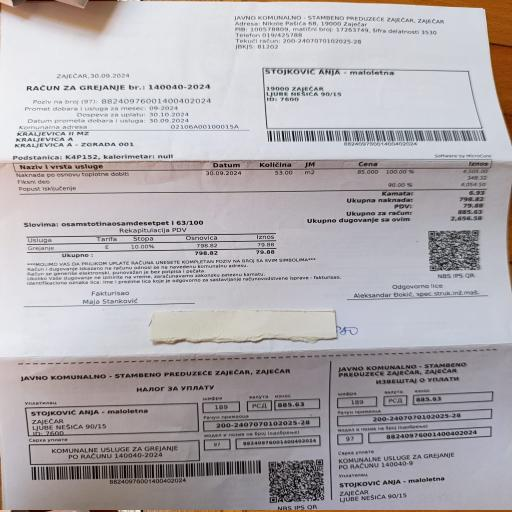racun_za_grejanje: (9, 159, 498, 219)
